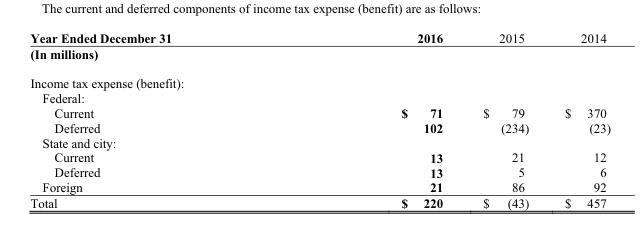table: (29, 28, 610, 210)
table column: (29, 28, 285, 210), (285, 28, 462, 210), (462, 28, 546, 210), (546, 28, 610, 210)
table column header: (29, 28, 610, 45)
table projected row header: (29, 67, 610, 90), (29, 45, 610, 67), (29, 134, 610, 149), (29, 90, 610, 104)
table row: (29, 67, 610, 90), (29, 45, 610, 67), (29, 28, 610, 45), (29, 194, 610, 210), (29, 104, 610, 119), (29, 119, 610, 134), (29, 134, 610, 149), (29, 149, 610, 164), (29, 164, 610, 179), (29, 179, 610, 194), (29, 90, 610, 104)
